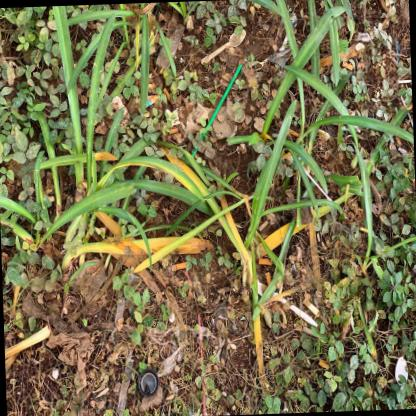Paper: (46, 330, 95, 394), (162, 86, 170, 102), (173, 260, 187, 269), (258, 220, 269, 231), (319, 357, 329, 369), (342, 60, 353, 69), (259, 257, 272, 264), (265, 272, 271, 285), (170, 127, 178, 134)
Plastic: (191, 63, 242, 157), (162, 205, 191, 281), (288, 156, 332, 200), (201, 28, 246, 64), (269, 12, 296, 67), (156, 23, 185, 68), (197, 313, 207, 413), (117, 358, 134, 416), (158, 346, 180, 376), (138, 368, 159, 396), (400, 95, 413, 126), (127, 266, 139, 286), (185, 121, 202, 135), (145, 94, 158, 108), (234, 90, 248, 101), (399, 79, 411, 82)
Waste: (196, 140, 215, 159), (115, 290, 125, 323), (396, 356, 408, 383)
